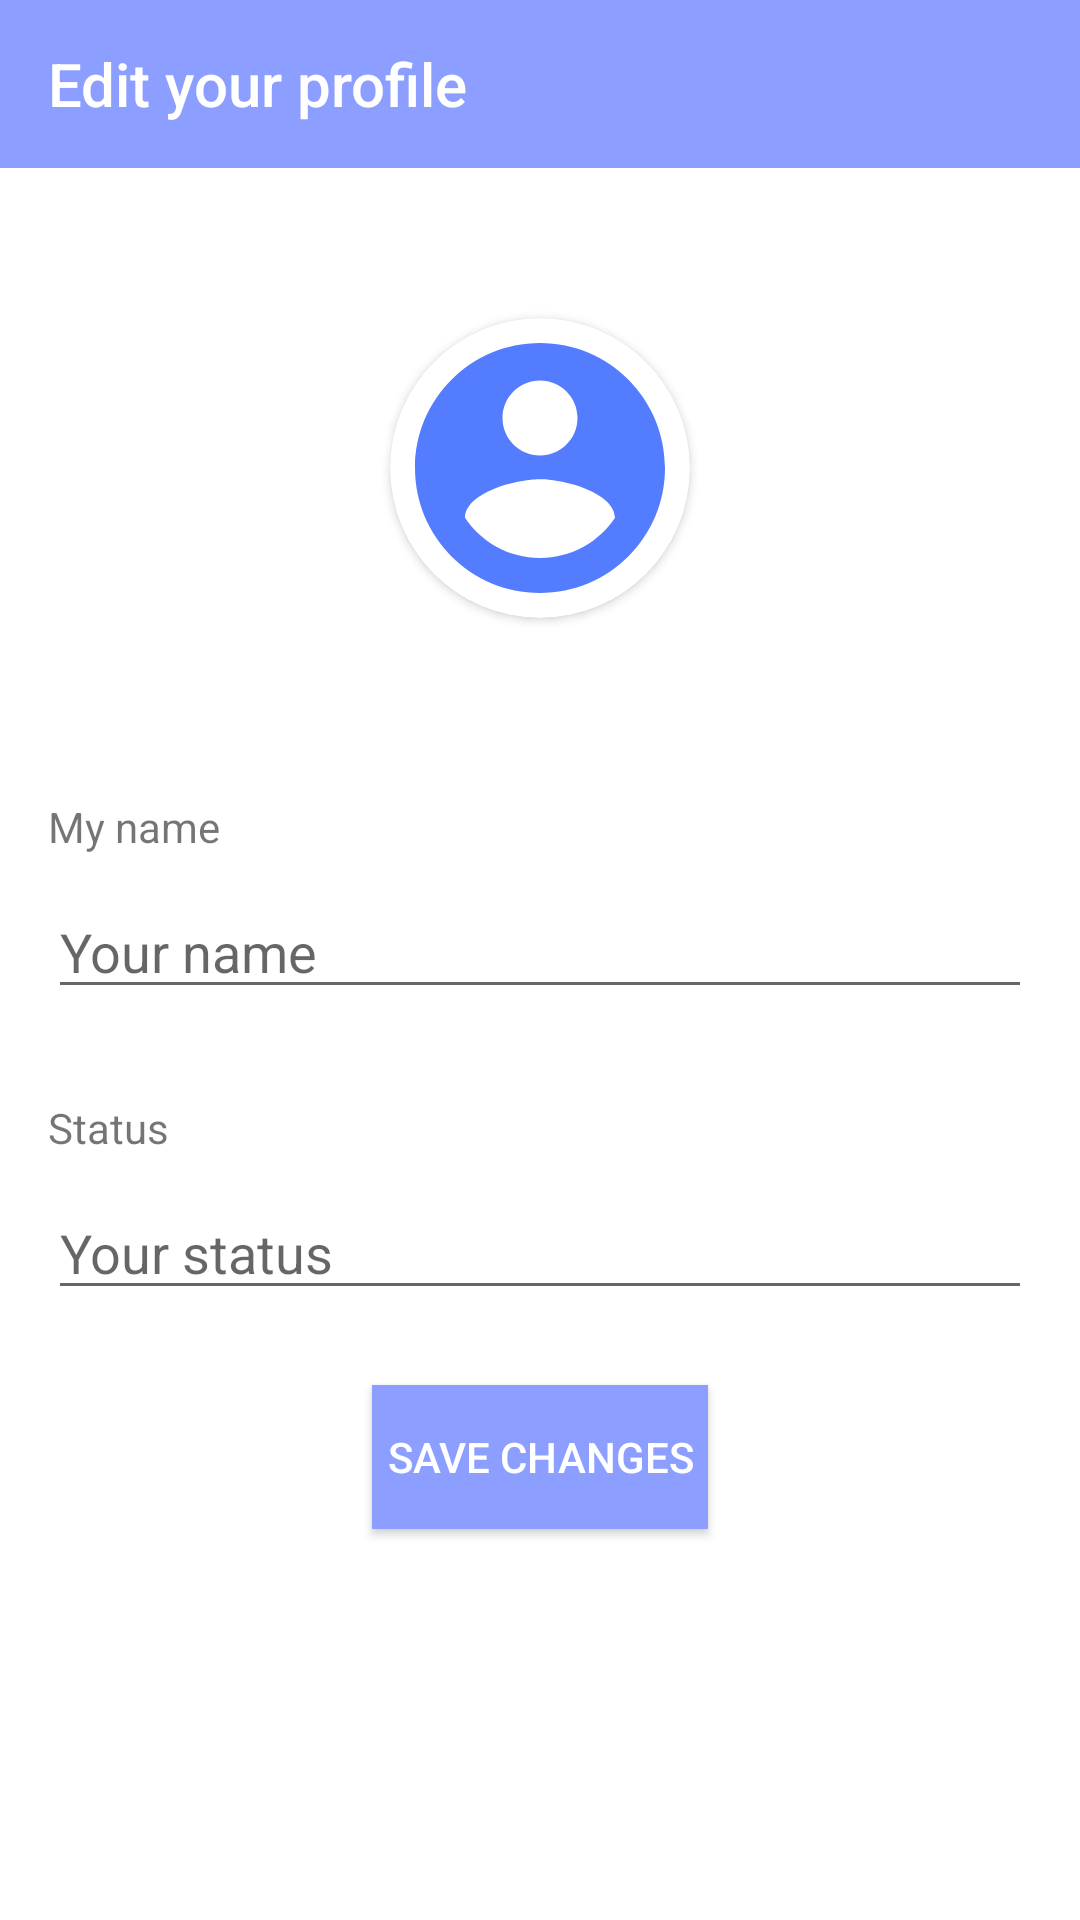

Screen size 1080w x 1920h. Icon name, then its center in pixels as point (x, y):
account circle: point (540, 480)
